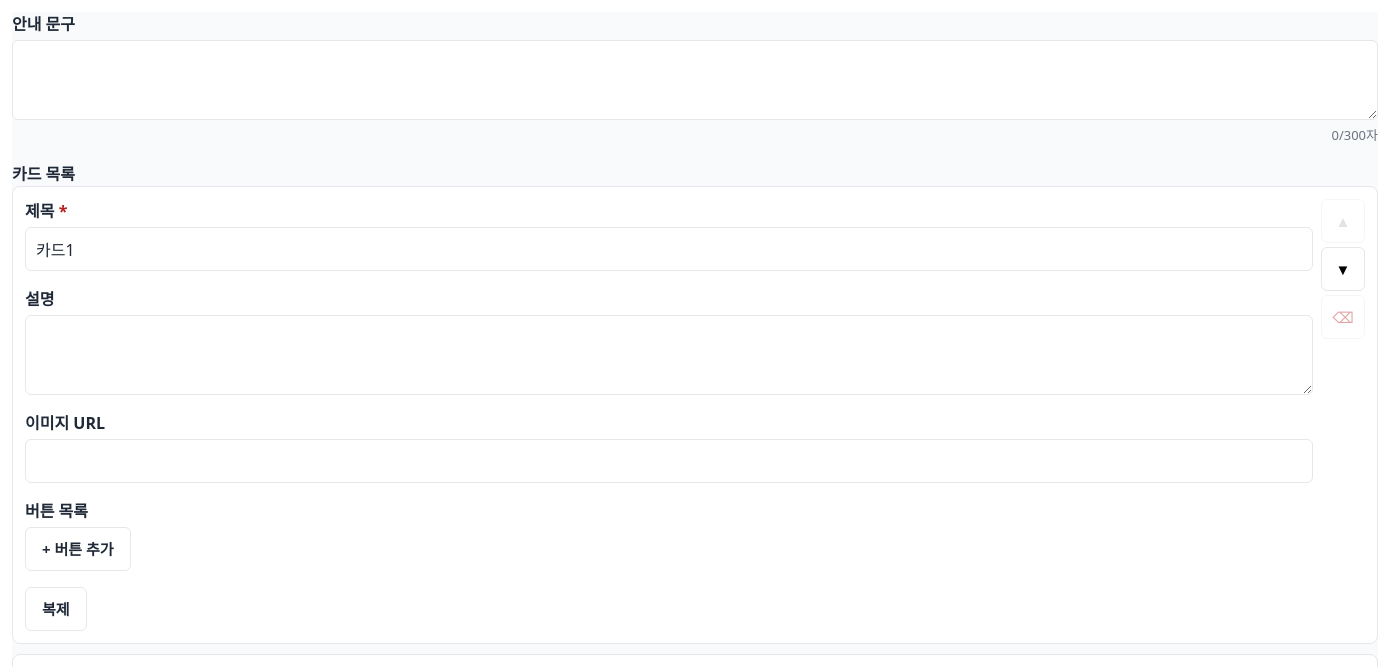
it: CarouselOutputEditor — 이미지 URL 인라인 검증(§3.1) › @ 포함 주소는 거부된다(피싱 형식)
Type "https://a.example.com@phish.example.net/x.png" into the field labelled "이미지 URL" at (669, 460), box [25,438,1313,482]
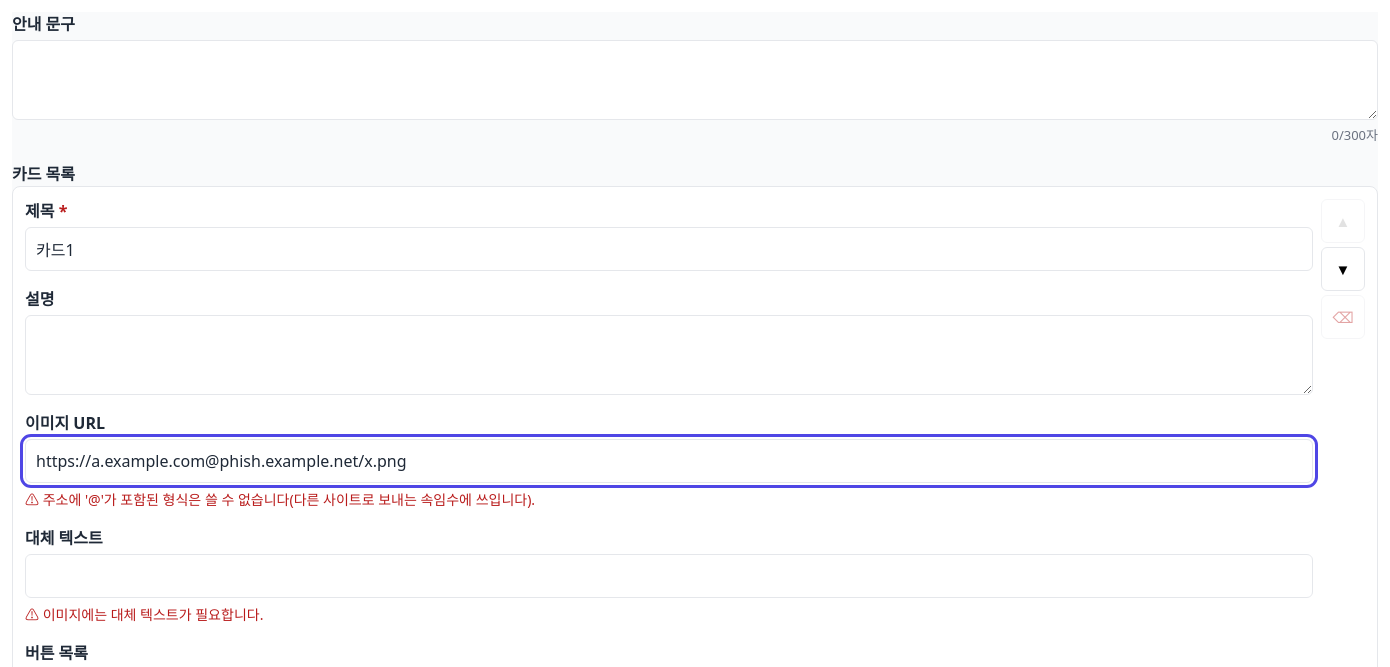
Now the text "⚠ 주소에 '@'가 포함된 형식은 쓸 수 없습니다(다른 사이트로 보내는 속임수에 쓰입니다)." is shown, box [25,490,535,508]
